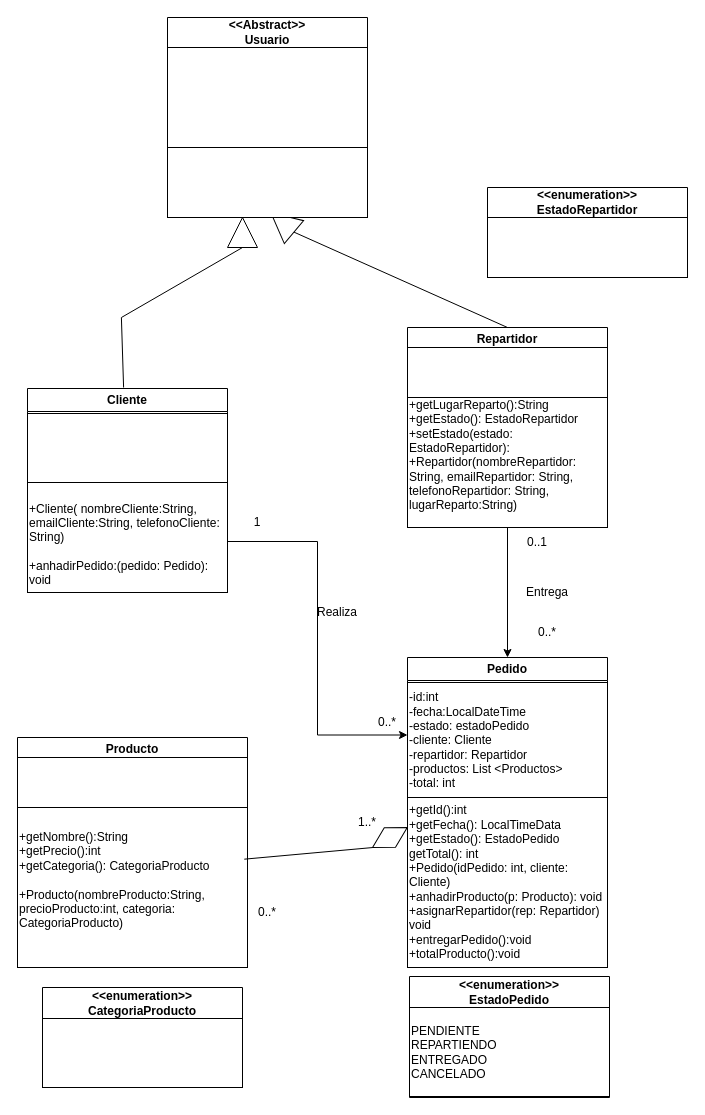
Image size: 705x1115. Some labels were removed from this diagram. The centre of each missing label's shape, as x and y in pixels:
"#nombre: String #email: String #telefono:String" goes at point 267,97.
"+getNombre(): String +getEmail(): String +getTelefono():String" goes at point 267,182.
"-historialPedidos: List <Pedido>" goes at point 127,450.
"-lugarReparto:String -estado: EstadoRepartidor" goes at point 507,377.
"-nombre: String -precio: int categoria:CategoriaProducto" goes at point 132,782.
"COMIDA BEBIDA POSTRE" goes at point 142,1053.
"Disponible NoDisponible" goes at point 587,247.
